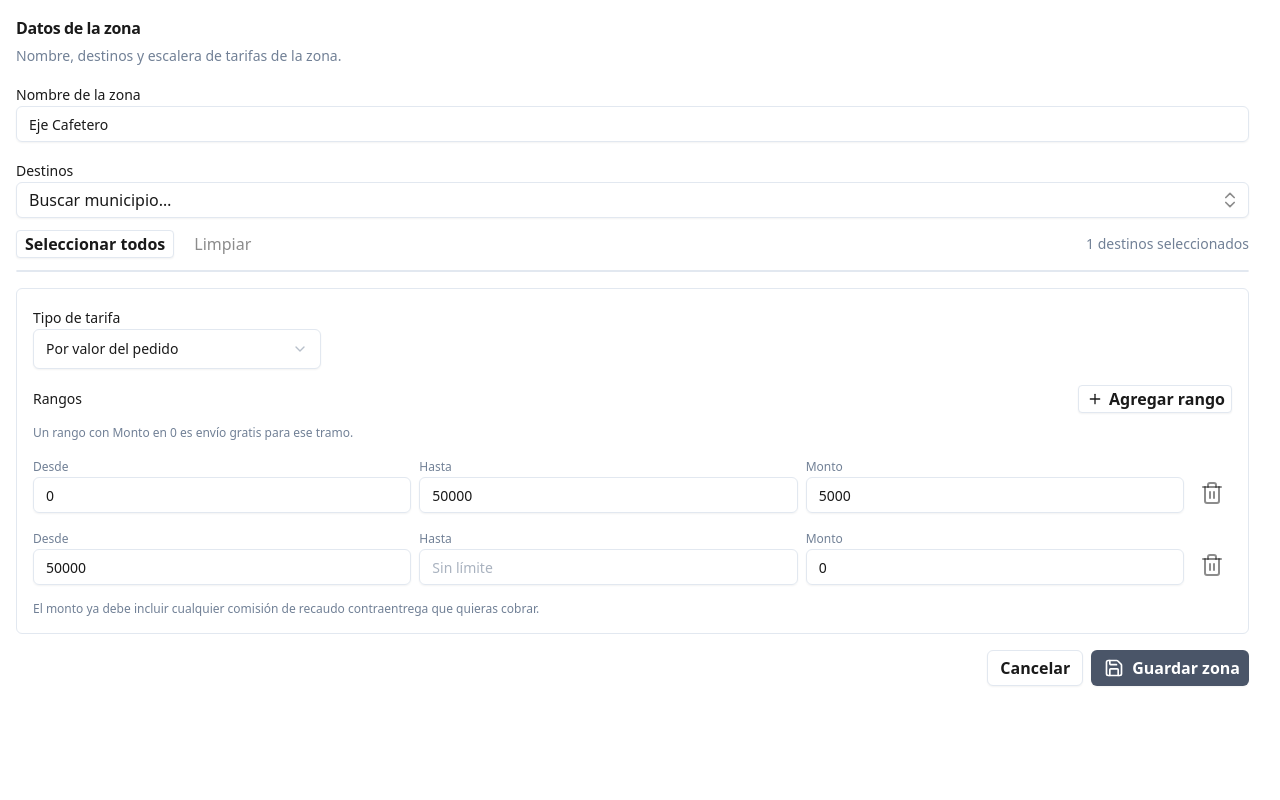
ZoneForm ladder validation on save (P0) › flags the exact row field and blocks the save when a ladder amount is blank
Clear the 1st number field labelled "Monto" at (995,495), box [806,477,1184,513]
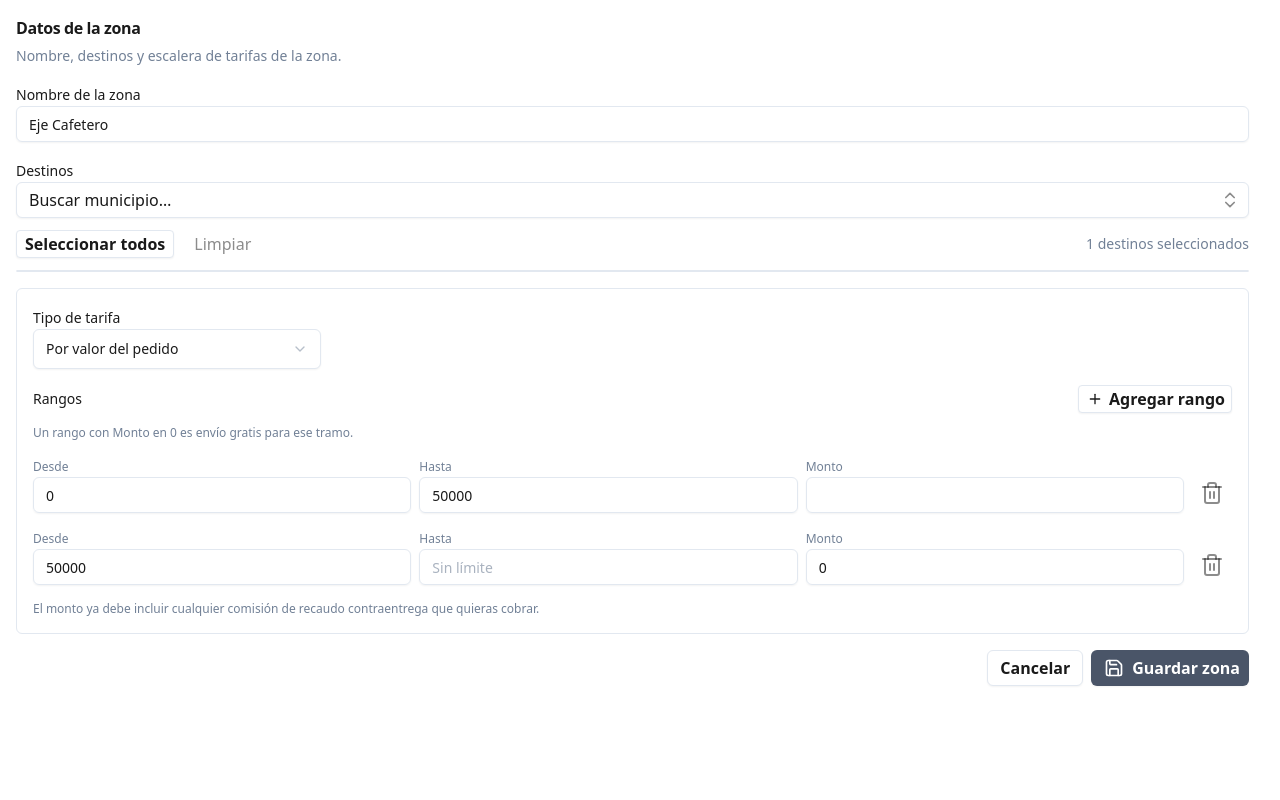
Click the button "Guardar zona" at (1170,668), box [1091,650,1249,686]
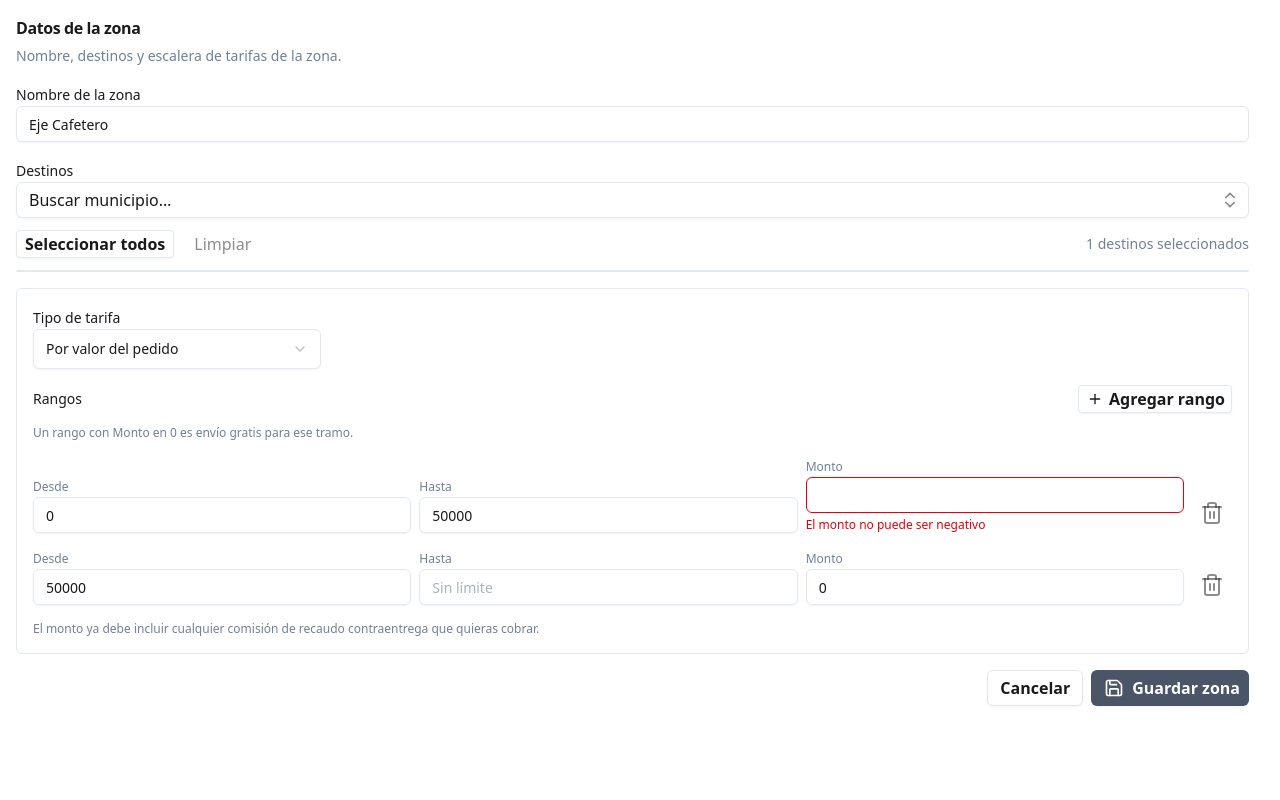
Now the text "El monto no puede ser negativo" is shown, box [806,516,986,533]
